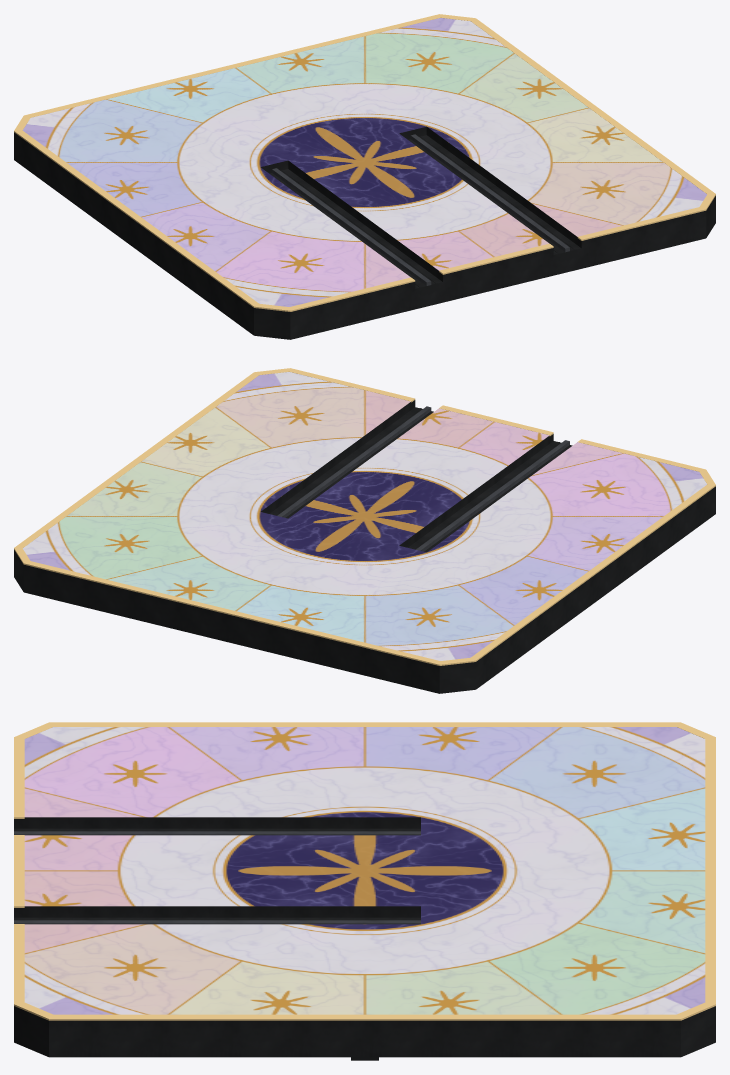
Rendered from StartLift.gltf.
3 views of the same model, one above another, from view 1: azimuth 30°, elevation 25°; view 2: azimuth 150°, elevation 25°; view 3: azimuth 270°, elevation 25° (orthographic). The views are drawn at different scales.
Parts seen in each view (by area): view 1: StartLift; view 2: StartLift; view 3: StartLift.
Boxes of the visible parts, x1,y1,x2,y2 form: StartLift: (14, 14, 715, 339); StartLift: (14, 368, 715, 693); StartLift: (14, 722, 715, 1060).
Bounding box in the file's own units: 20 × 2 × 20.
Materials: 4 (3 with a texture image).
